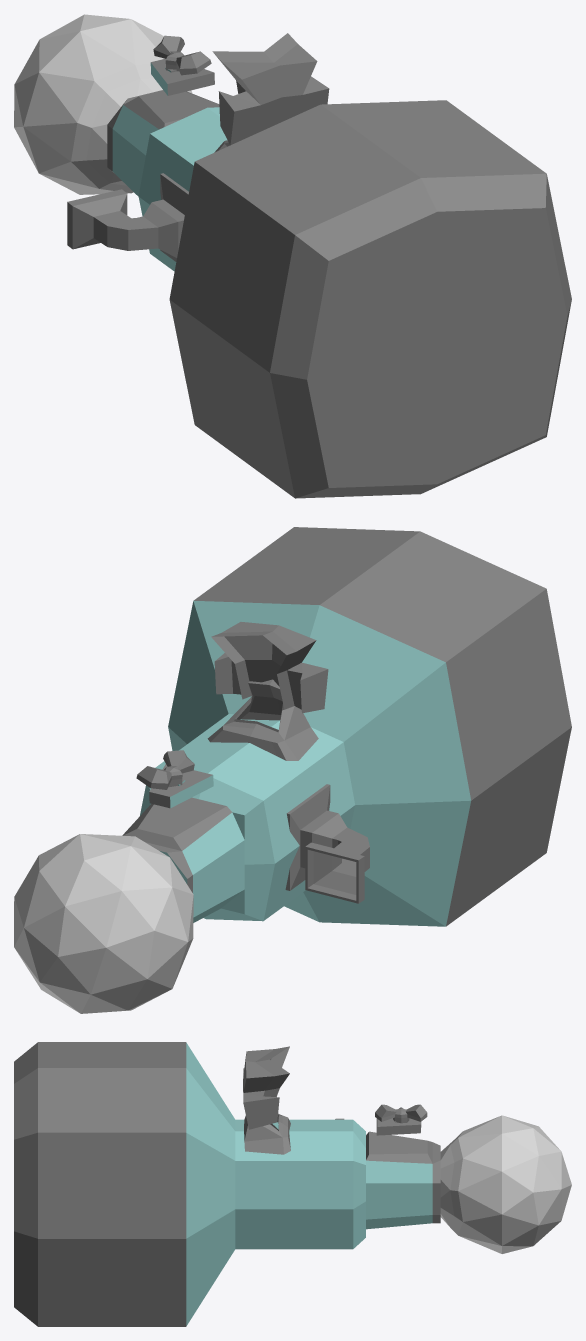
The model's file is Machine_graine_fleur.fbx.
3 views of the same model, one above another, from view 1: azimuth 30°, elevation 25°; view 2: azimuth 150°, elevation 25°; view 3: azimuth 270°, elevation 25° (orthographic). The views are drawn at different scales.
Parts seen in each view (by area): view 1: Base_machine, Curvemachine, Recuperateur_graine, conteneur essence de vie.001, tourniquet; view 2: Base_machine, Curvemachine, Recuperateur_graine, conteneur essence de vie.001, tourniquet; view 3: Base_machine, Curvemachine, Recuperateur_graine, tourniquet.
Part boxes in pixels (x1=…): Base_machine: x1=107, y1=58, x2=571, y2=498; Curvemachine: x1=14, y1=14, x2=192, y2=194; Recuperateur_graine: x1=212, y1=33, x2=329, y2=152; conteneur essence de vie.001: x1=67, y1=173, x2=188, y2=261; tourniquet: x1=153, y1=35, x2=211, y2=75; Base_machine: x1=122, y1=527, x2=571, y2=926; Curvemachine: x1=14, y1=834, x2=193, y2=1013; Recuperateur_graine: x1=207, y1=622, x2=328, y2=760; conteneur essence de vie.001: x1=285, y1=784, x2=369, y2=903; tourniquet: x1=136, y1=750, x2=194, y2=789; Base_machine: x1=14, y1=1042, x2=440, y2=1326; Curvemachine: x1=440, y1=1115, x2=571, y2=1253; Recuperateur_graine: x1=243, y1=1046, x2=290, y2=1154; tourniquet: x1=375, y1=1104, x2=427, y2=1123.
Bounding box in the file's own units: 205 × 213 × 446.
